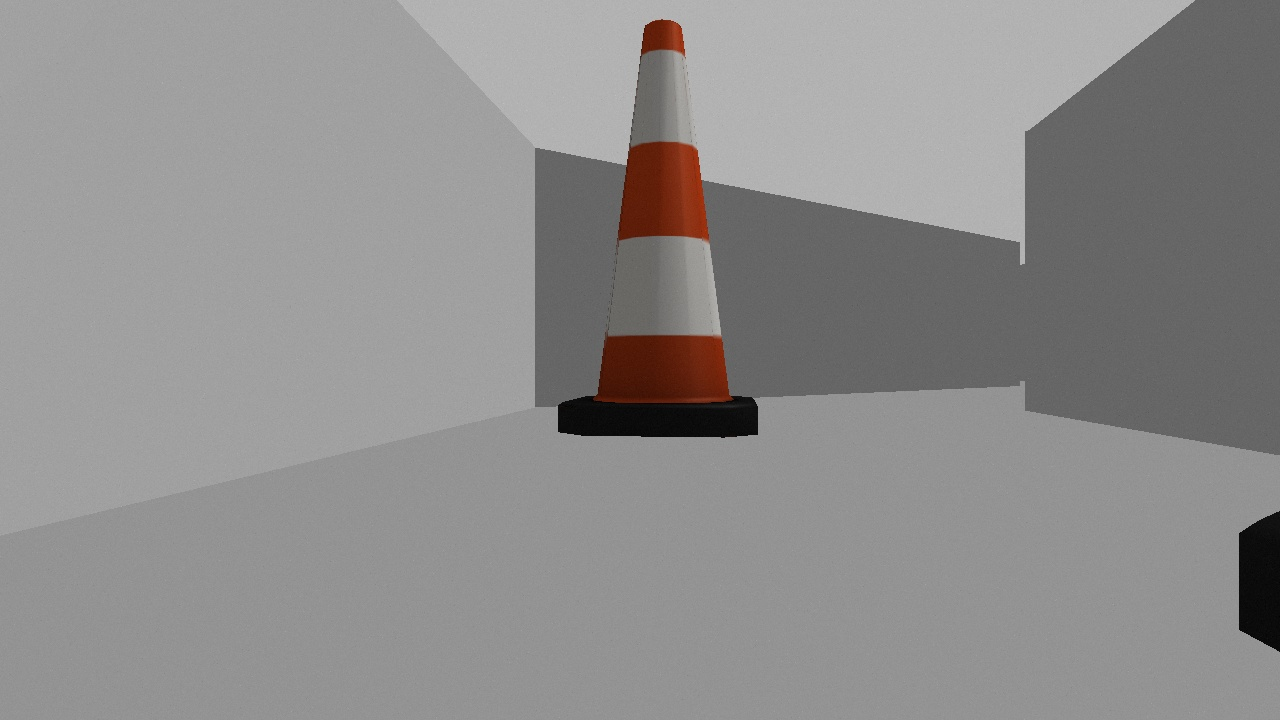barricade: (543, 14, 778, 452)
